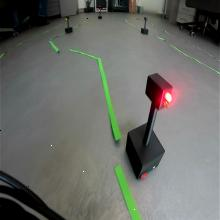red: (144, 72, 174, 110)
